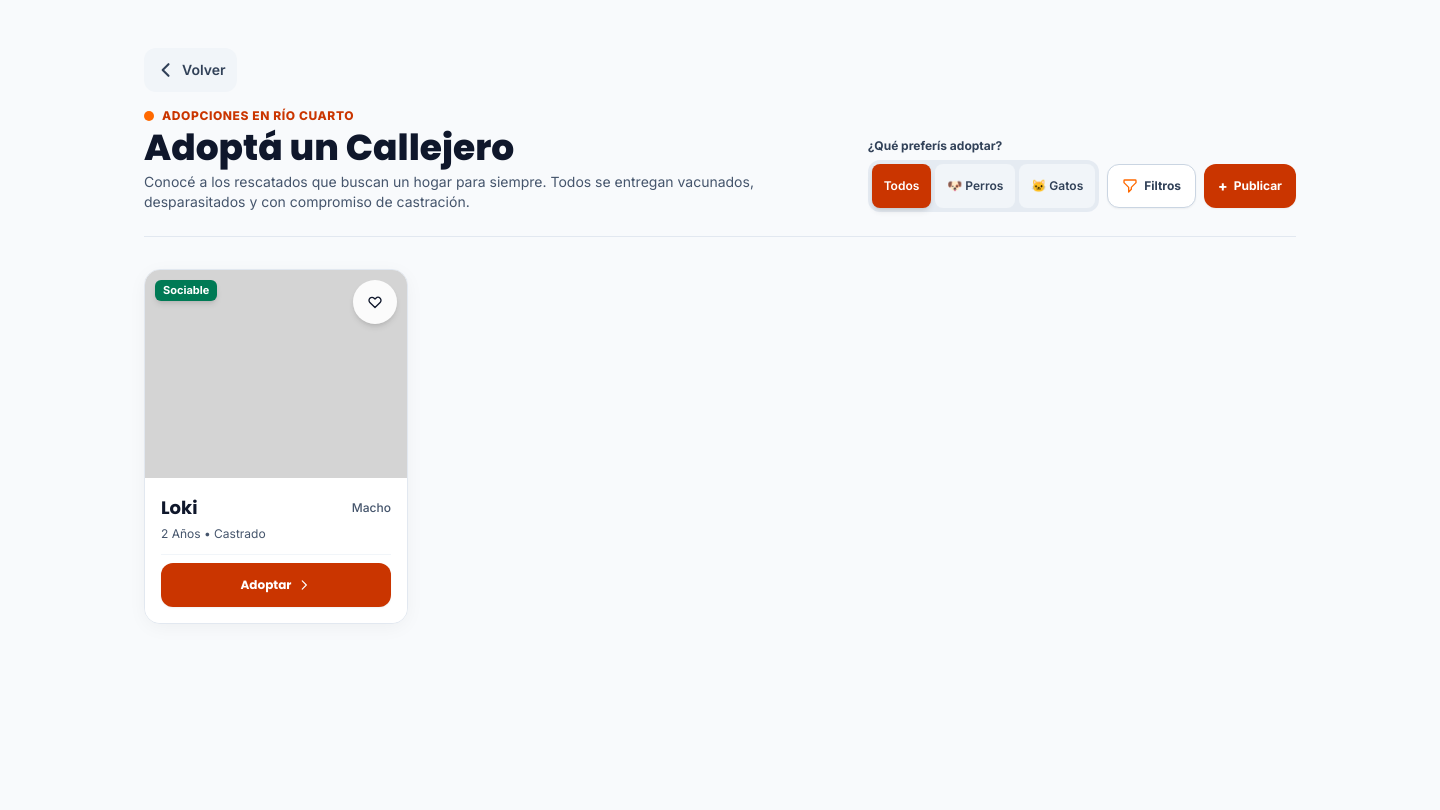
Scenario: AdoptionCatalog › abre el modal de filtros, aplica Adoptados + búsqueda y muestra contador de filtros activos
The width and height of the screenshot is (1440, 810).
Check: the heading "Loki" is shown, box [161, 494, 198, 522]
Click the button with aria-label "Abrir filtros avanzados" at (1152, 186), box [1107, 164, 1196, 208]
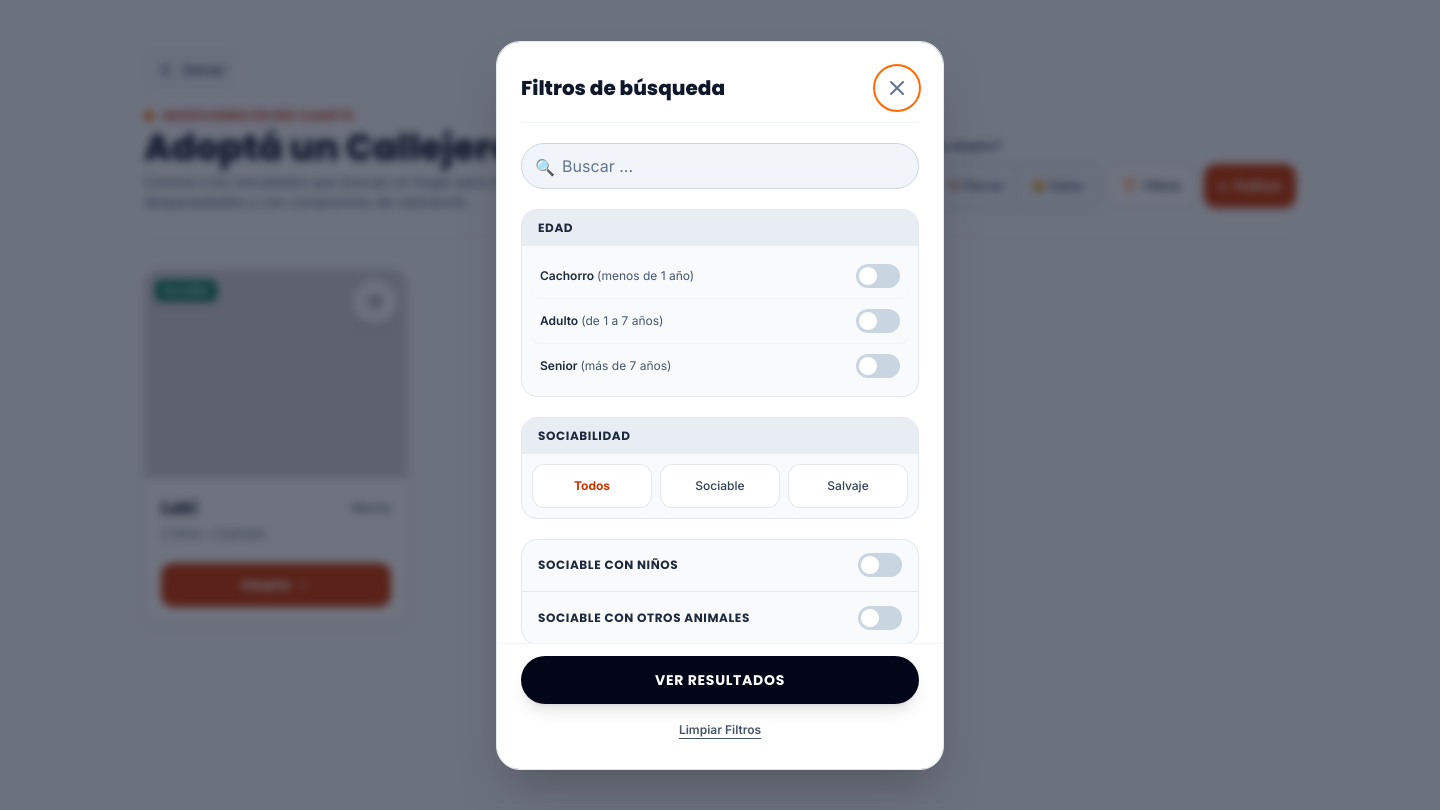
Check: the dialog is shown
Type "Pancho" into the field with placeholder "Buscar ..." at (720, 166), box [521, 142, 919, 188]
(page scrolled)
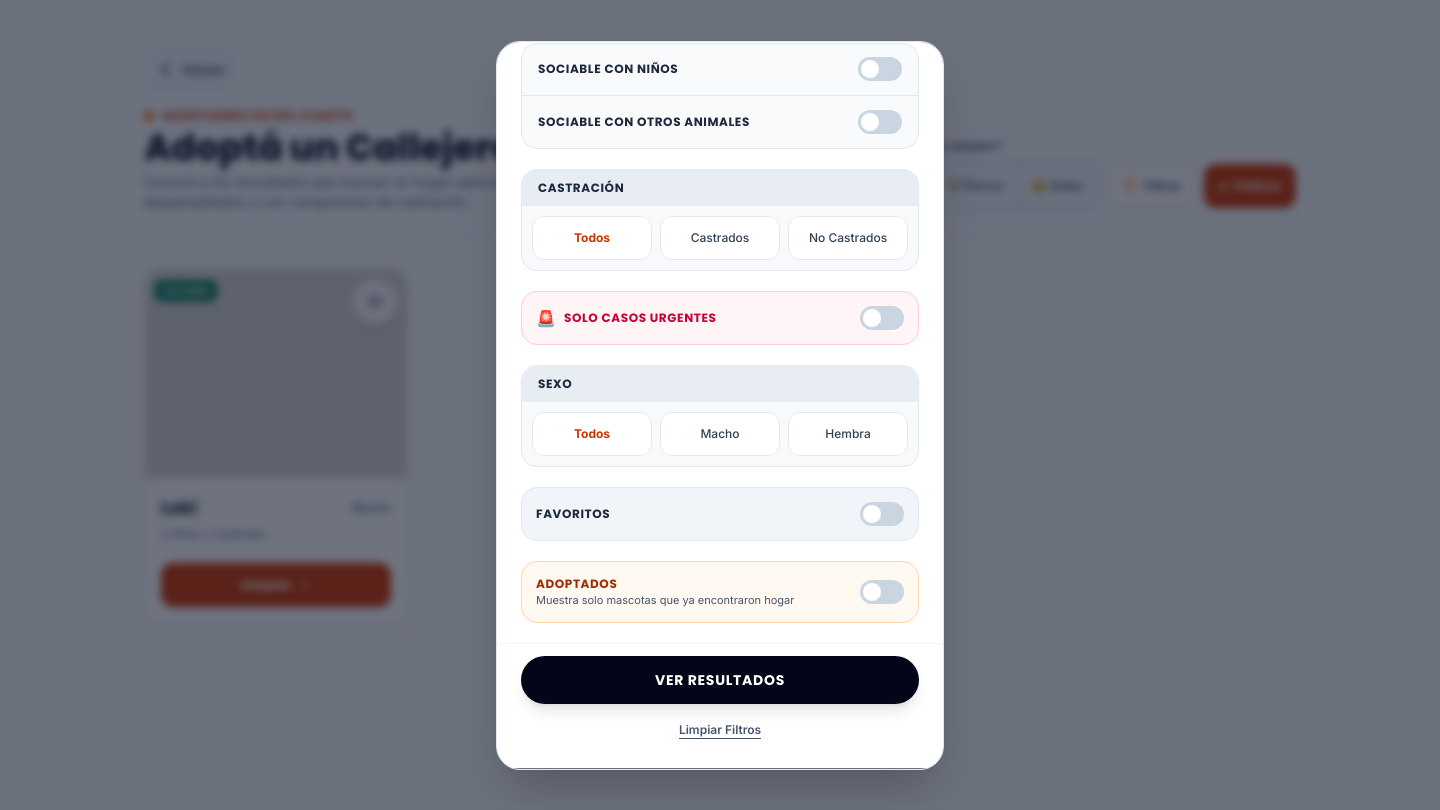
Click the checkbox labelled "Adoptados Muestra solo mascotas que ya encontraron hogar" at (720, 592), box [521, 560, 919, 623]
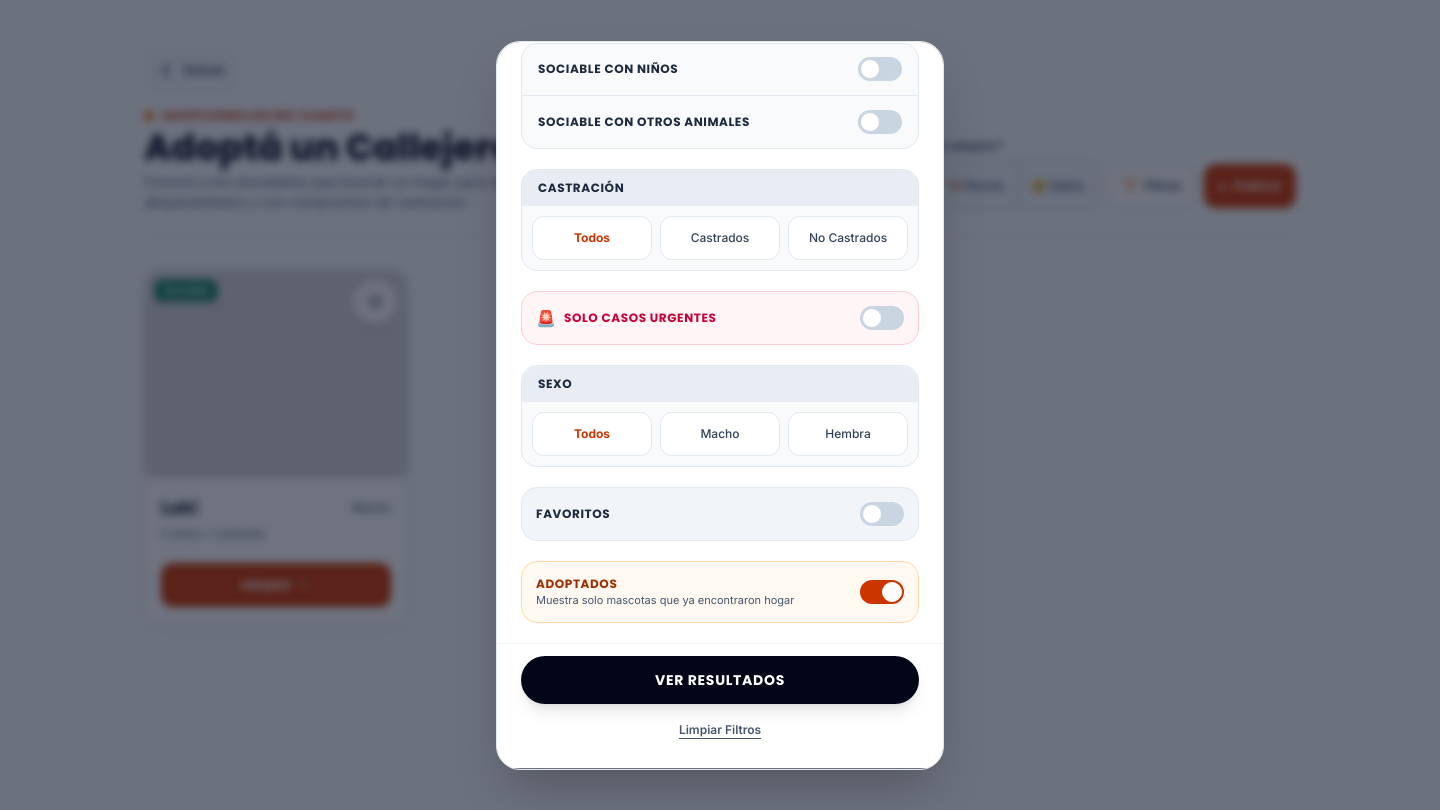
Click the button "VER RESULTADOS" at (720, 680), box [521, 656, 919, 704]
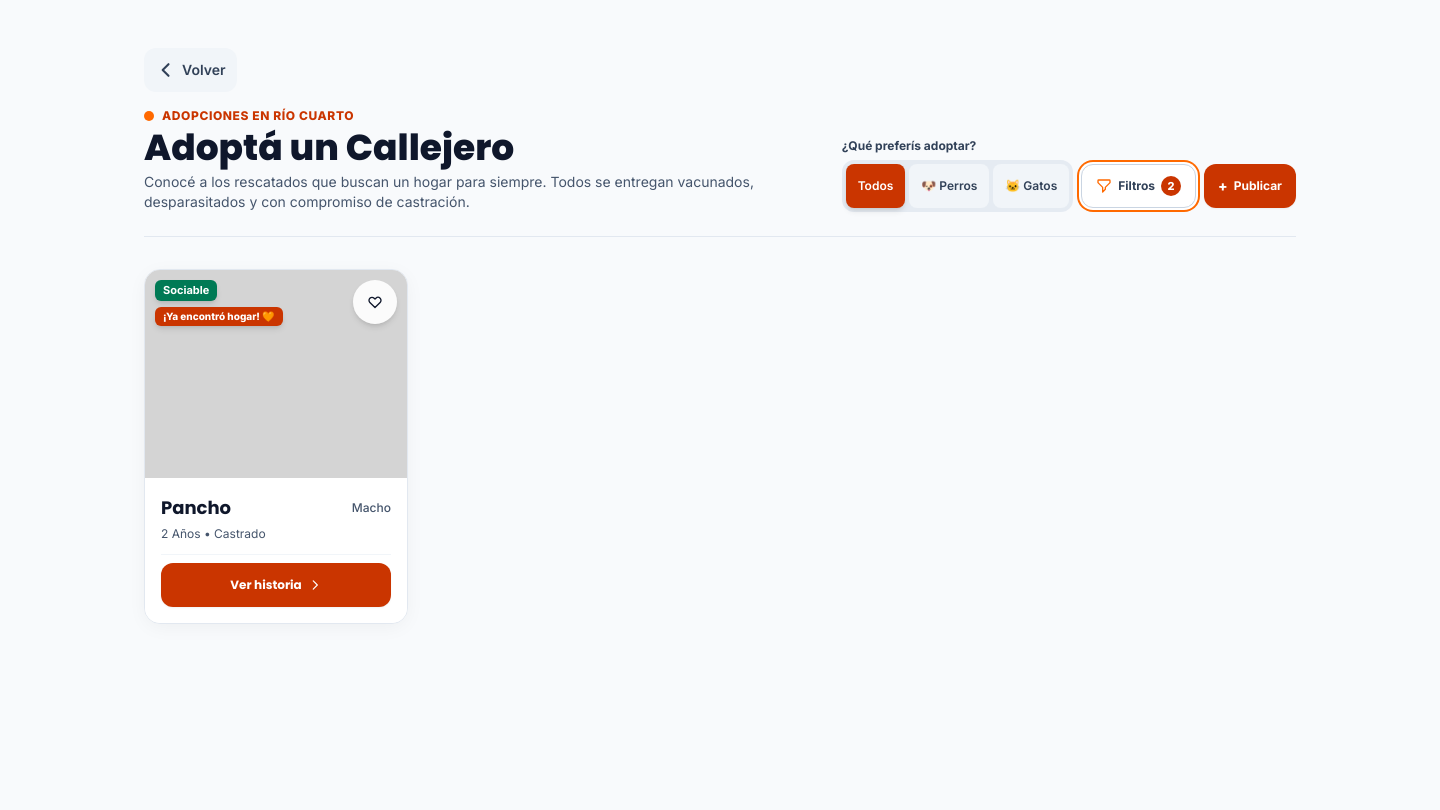
Check: the heading "Pancho" is shown, box [161, 494, 231, 522]
Check: the text "¡Ya encontró hogar! 🧡" is shown, box [155, 306, 283, 326]
Check: the dialog is gone
